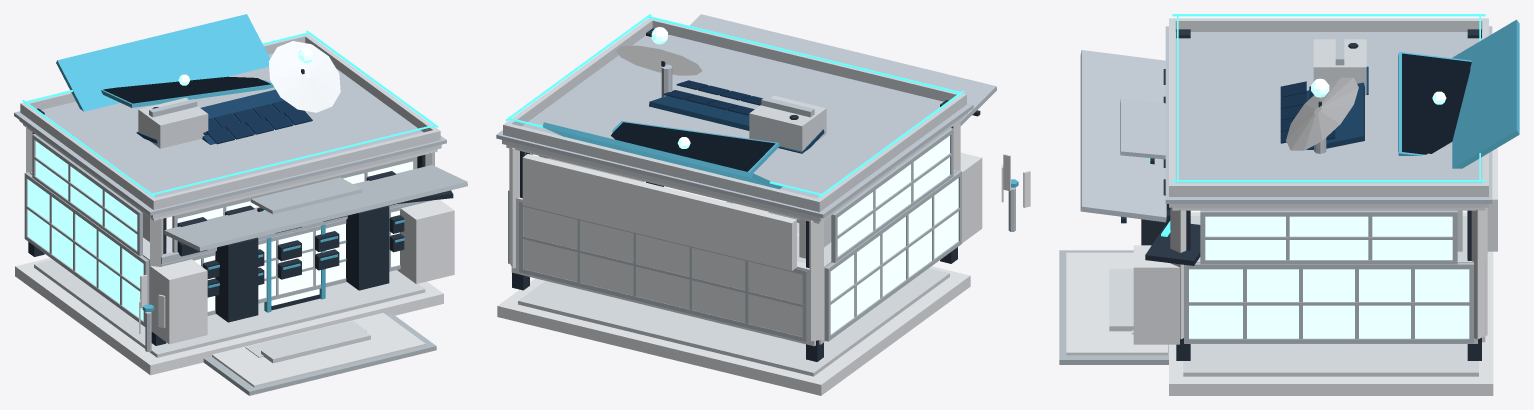
The model's file is computer-site.glb.
3 renders of one model, left to right at view 1: azimuth 30°, elevation 25°; view 2: azimuth 150°, elevation 25°; view 3: azimuth 270°, elevation 25°, orthographic. The views are drawn at different scales.
Visible parts, largest first — view 1: roof, base, windows_glow, sign, massing, plaza, canopy, mullions, racks, antenna, interior_sil, sign_face (+4 smaller); view 2: roof, massing, base, windows_glow, mullions, canopy, sign_face, sign, neon, antenna, frame, windmill; view 3: roof, windows_glow, base, canopy, mullions, plaza, massing, sign, sign_face, antenna, neon, outdoor_screen (+3 smaller).
Boxes of the visible parts, bbox=[...] form: roof: bbox=[14, 34, 446, 220]; base: bbox=[15, 228, 443, 375]; windows_glow: bbox=[27, 141, 413, 320]; sign: bbox=[56, 14, 273, 111]; massing: bbox=[26, 126, 454, 344]; plaza: bbox=[203, 312, 436, 395]; canopy: bbox=[164, 165, 467, 251]; mullions: bbox=[24, 134, 430, 326]; racks: bbox=[215, 205, 389, 322]; antenna: bbox=[268, 41, 340, 112]; interior_sil: bbox=[177, 171, 404, 297]; sign_face: bbox=[105, 76, 269, 102]; roof: bbox=[496, 18, 973, 223]; massing: bbox=[509, 120, 982, 346]; base: bbox=[497, 233, 970, 395]; windows_glow: bbox=[533, 135, 958, 334]; mullions: bbox=[508, 128, 961, 342]; canopy: bbox=[689, 14, 996, 125]; sign_face: bbox=[611, 122, 773, 171]; sign: bbox=[542, 121, 782, 189]; neon: bbox=[505, 14, 964, 197]; antenna: bbox=[616, 45, 702, 97]; frame: bbox=[512, 28, 957, 361]; windmill: bbox=[1001, 154, 1030, 207]; roof: bbox=[1165, 18, 1492, 210]; windows_glow: bbox=[1189, 216, 1469, 338]; base: bbox=[1169, 212, 1493, 395]; canopy: bbox=[1080, 50, 1166, 223]; mullions: bbox=[1184, 210, 1473, 343]; plaza: bbox=[1059, 250, 1168, 364]; massing: bbox=[1133, 148, 1497, 344]; sign: bbox=[1398, 19, 1519, 168]; sign_face: bbox=[1402, 53, 1470, 153]; antenna: bbox=[1286, 77, 1358, 153]; neon: bbox=[1149, 14, 1485, 182]; outdoor_screen: bbox=[1145, 221, 1200, 265].
Bounding box in the file's own units: 4.21 × 2.73 × 4.17.
